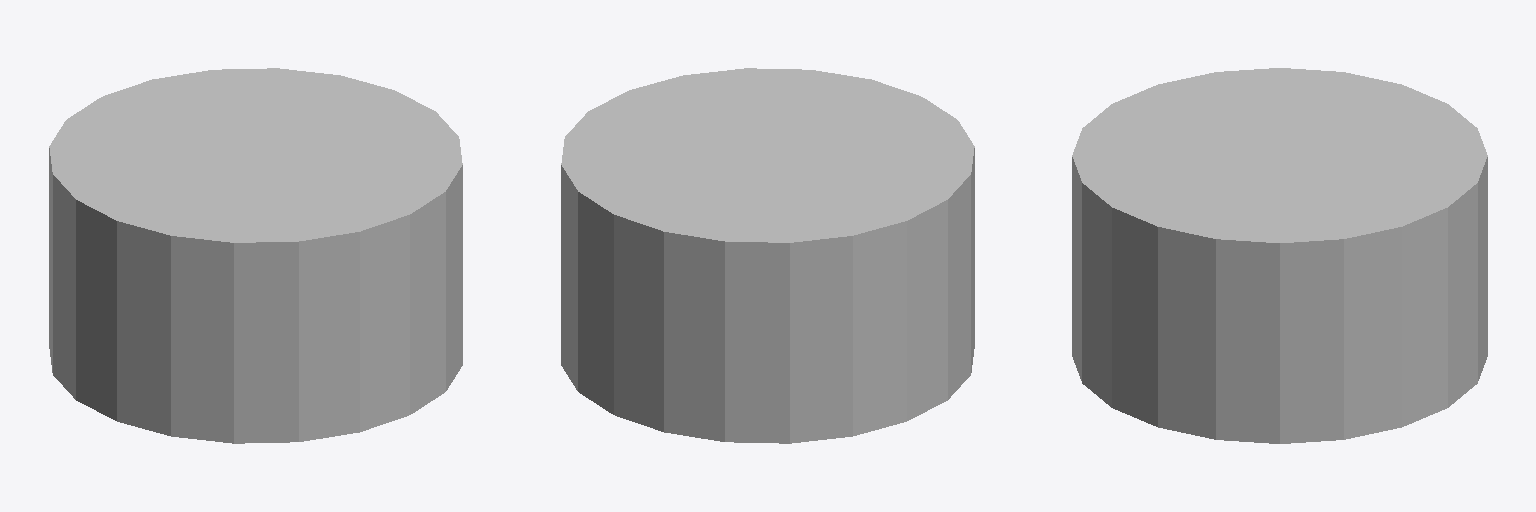
The model's file is Stem.obj.
The picture shows the model from 3 angles: view 1: azimuth 30°, elevation 25°; view 2: azimuth 150°, elevation 25°; view 3: azimuth 270°, elevation 25°; orthographic projection.
Parts seen in each view (by area): view 1: pCylinder2; view 2: pCylinder2; view 3: pCylinder2.
Part boxes in pixels (x1,y1,x2,y2): pCylinder2: (49,68,462,443); pCylinder2: (561,68,974,443); pCylinder2: (1072,68,1487,443).
Bounding box in the file's own units: 2 × 1.07 × 2.